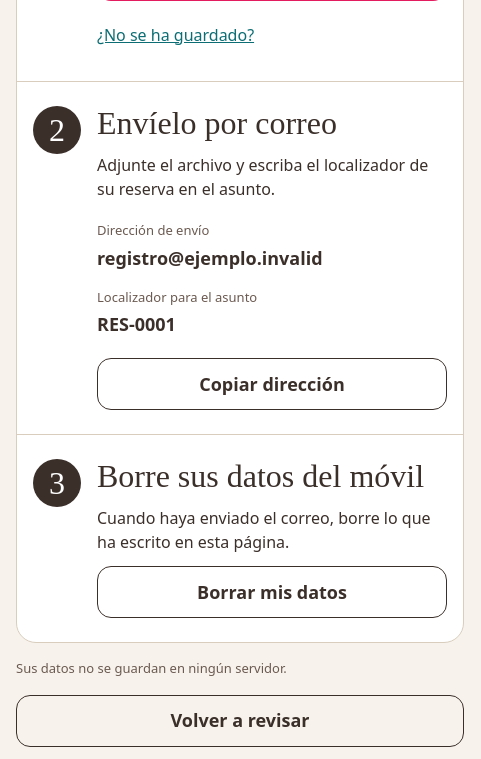
Scenario: Pantalla Final › copiar sin portapapeles: enseña la dirección en un campo seleccionable
(page scrolled)
Click the button with class "step__button" showing "Copiar dirección" at (272, 384), box [97,358,447,410]
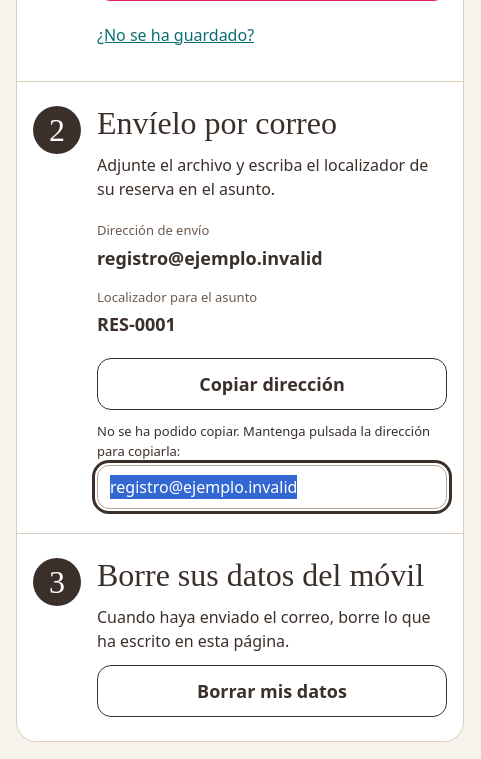
Now the field with id "direccion-correo" holds "registro@ejemplo.invalid", box [97,465,447,509]
